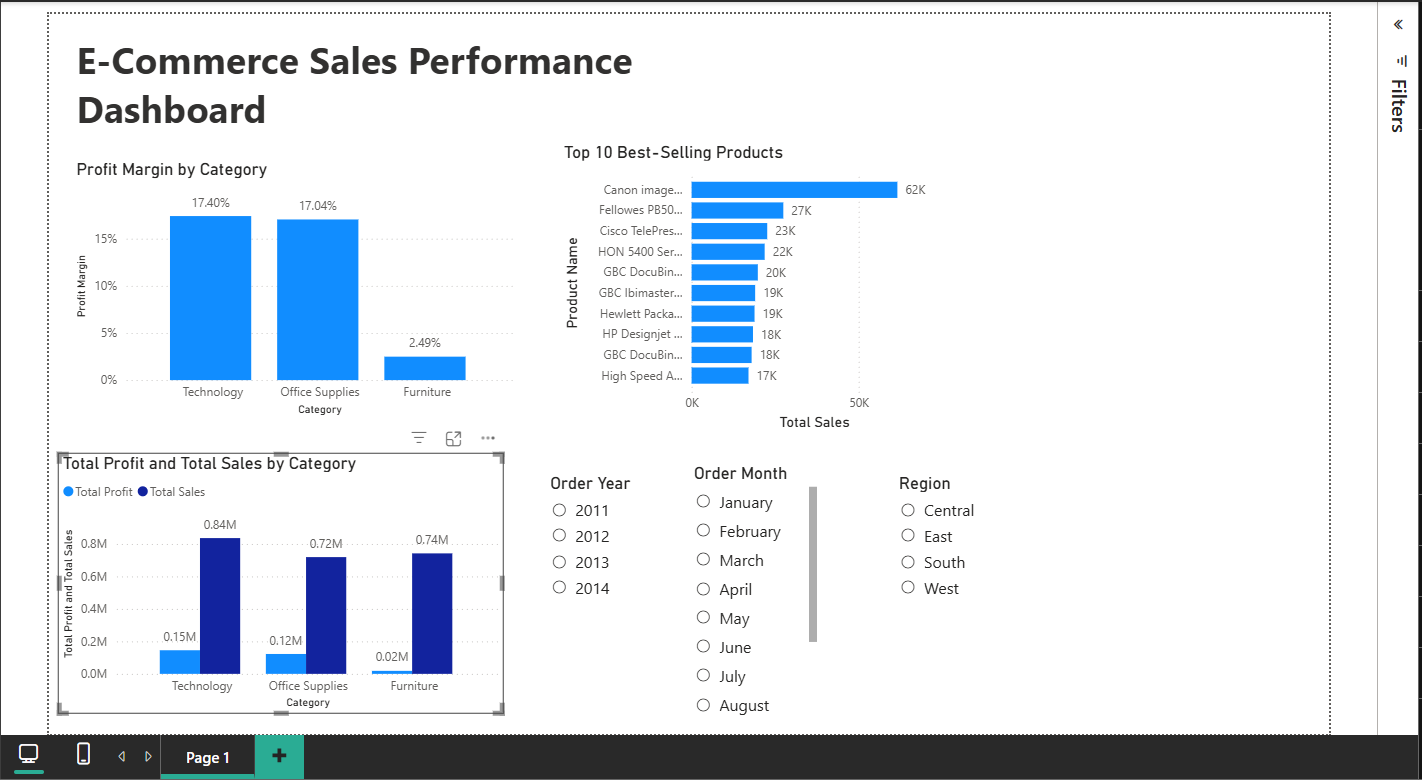

The page's visual inventory and layout, read from the dashboard file:
{"tool":"powerbi","page":{"name":"Page 1","canvas":[1280,720],"ordinal":0},"visuals":[{"type":"clusteredBarChart","title":"Top 10 Best-Selling Products","fields":{"Category":["Orders.Product Name"],"Y":["Orders.Total Sales"]},"box":[511.1,145.6,394.4,293.3],"z":0},{"type":"clusteredColumnChart","title":"Profit Margin by Category","fields":{"Category":["Orders.Category"],"Y":["Orders.Profit Margin"]},"box":[22.2,145.6,446.7,261.1],"z":1000},{"type":"textbox","box":[22.2,14.4,596.7,112.2],"z":1001},{"type":"clusteredColumnChart","fields":{"Category":["Orders.Category"],"Y":["Orders.Total Profit","Orders.Total Sales"]},"box":[8.9,438.9,446.7,261.1],"z":1002}]}

Visuals, with their boxes on the page's 1280x720 design canvas (x1, y1, x2, y2). These are canvas units, not pixel positions in the 1422x780 screenshot, which may show the page scaled, cropped or inside an application window:
"Top 10 Best-Selling Products" clusteredBarChart: box=[511, 146, 906, 439]
"Profit Margin by Category" clusteredColumnChart: box=[22, 146, 469, 407]
textbox: box=[22, 14, 619, 127]
clusteredColumnChart - Orders.Category x Orders.Total Profit: box=[9, 439, 456, 700]
